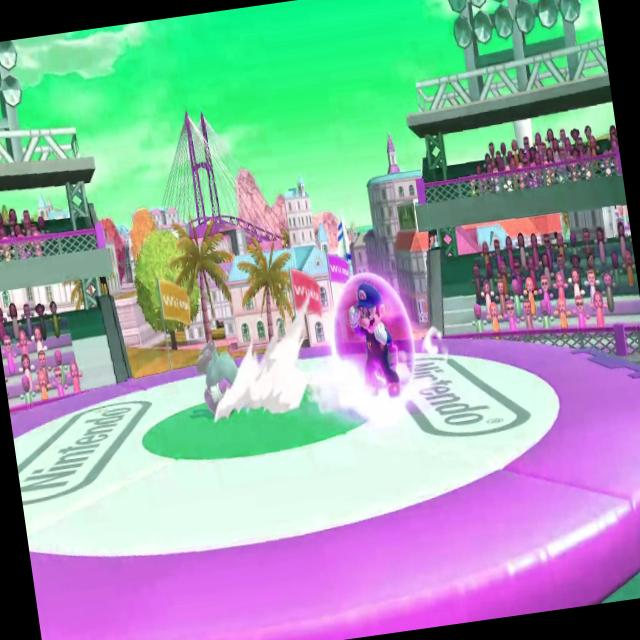Mario-Sa: (187, 329, 250, 424)
